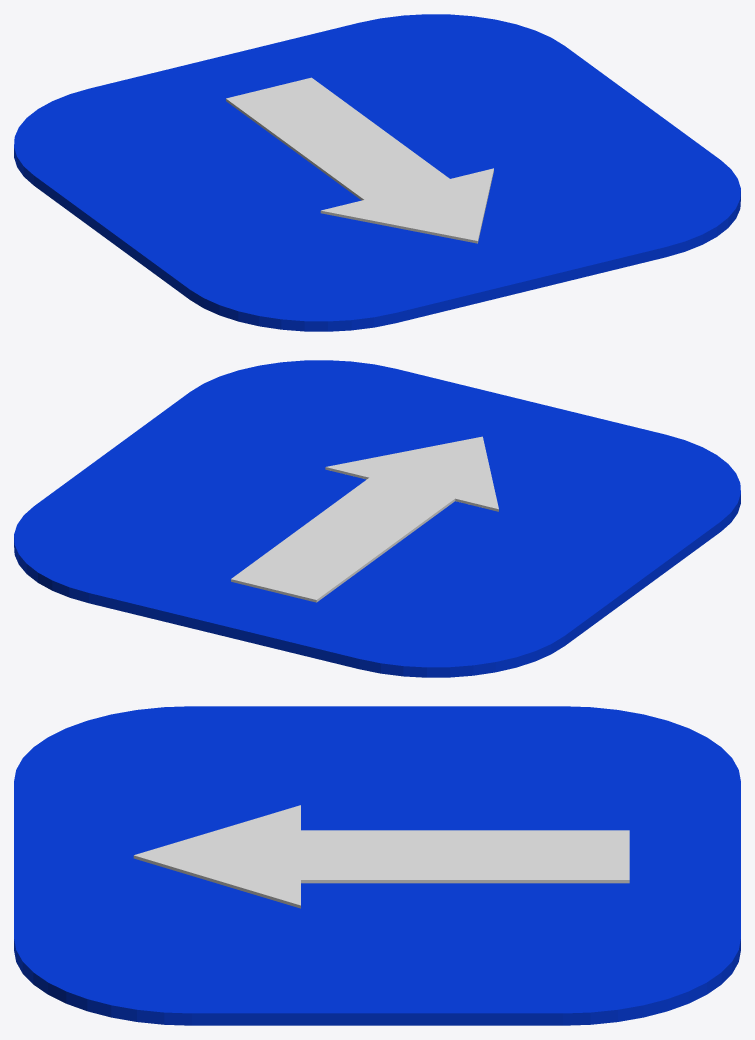
The model's file is tutor lv 2.fbx.
3 renders of one model, top to bottom at view 1: azimuth 30°, elevation 25°; view 2: azimuth 150°, elevation 25°; view 3: azimuth 270°, elevation 25°, orthographic. The views are drawn at different scales.
Parts seen in each view (by area): view 1: Plane.001; view 2: Plane.001; view 3: Plane.001.
Part boxes in pixels (<box>): Plane.001: <box>14,14,740,331</box>; Plane.001: <box>14,360,740,677</box>; Plane.001: <box>14,706,740,1025</box>.
Size of what is drawn, in the model's own units: 54.17 by 1.27 by 54.17.
